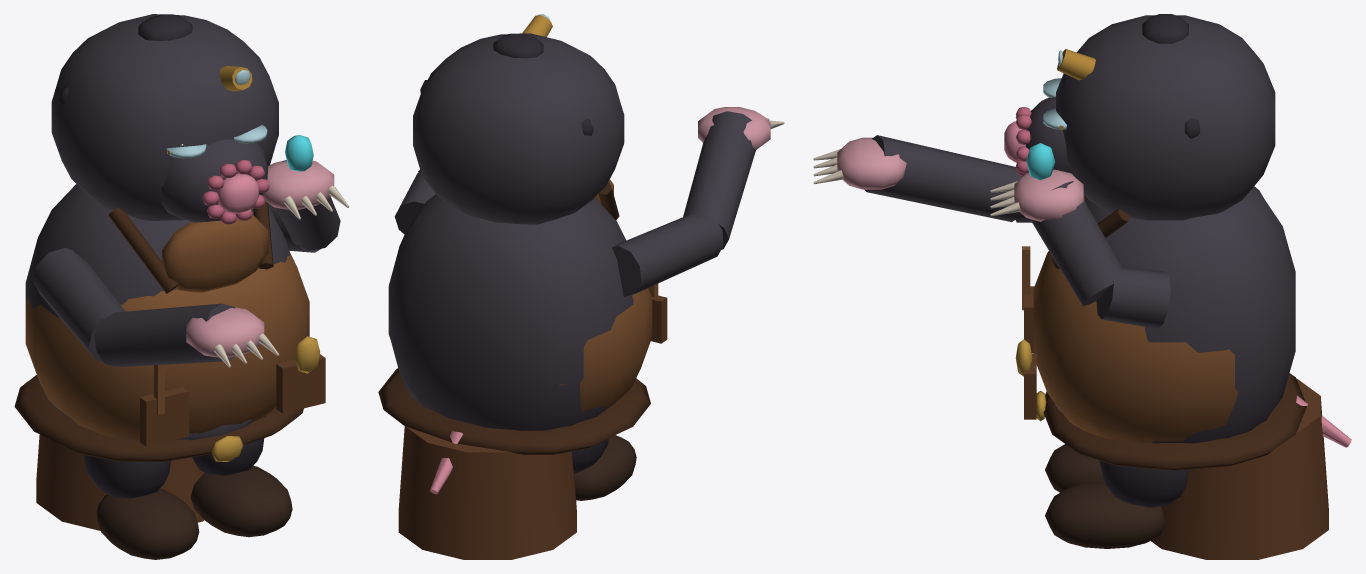
The model's file is gus.glb.
3 renders of one model, left to right at view 1: azimuth 30°, elevation 25°; view 2: azimuth 150°, elevation 25°; view 3: azimuth 270°, elevation 25°, orthographic. The views are drawn at different scales.
Parts seen in each view (by area): view 1: Gus_Body, Gus_Head, Gus_ArmR, Gus_ArmL; view 2: Gus_Body, Gus_Head, Gus_ArmR, Gus_ArmL, Gus_Tail; view 3: Gus_Body, Gus_Head, Gus_ArmL, Gus_ArmR.
Part boxes in pixels (x1,y1,x2,y2): Gus_Body: (14, 184, 325, 559); Gus_Head: (51, 14, 278, 224); Gus_ArmR: (33, 248, 279, 367); Gus_ArmL: (262, 135, 349, 252); Gus_Body: (378, 179, 667, 559); Gus_Head: (413, 14, 624, 224); Gus_ArmR: (612, 106, 784, 296); Gus_ArmL: (394, 170, 435, 234); Gus_Tail: (430, 431, 462, 494); Gus_Body: (1015, 186, 1328, 559); Gus_Head: (1004, 14, 1275, 220); Gus_ArmL: (990, 143, 1170, 328); Gus_ArmR: (813, 135, 1031, 222).
Size of the model in its own units: 0.8079 by 1.32 by 1.29.
